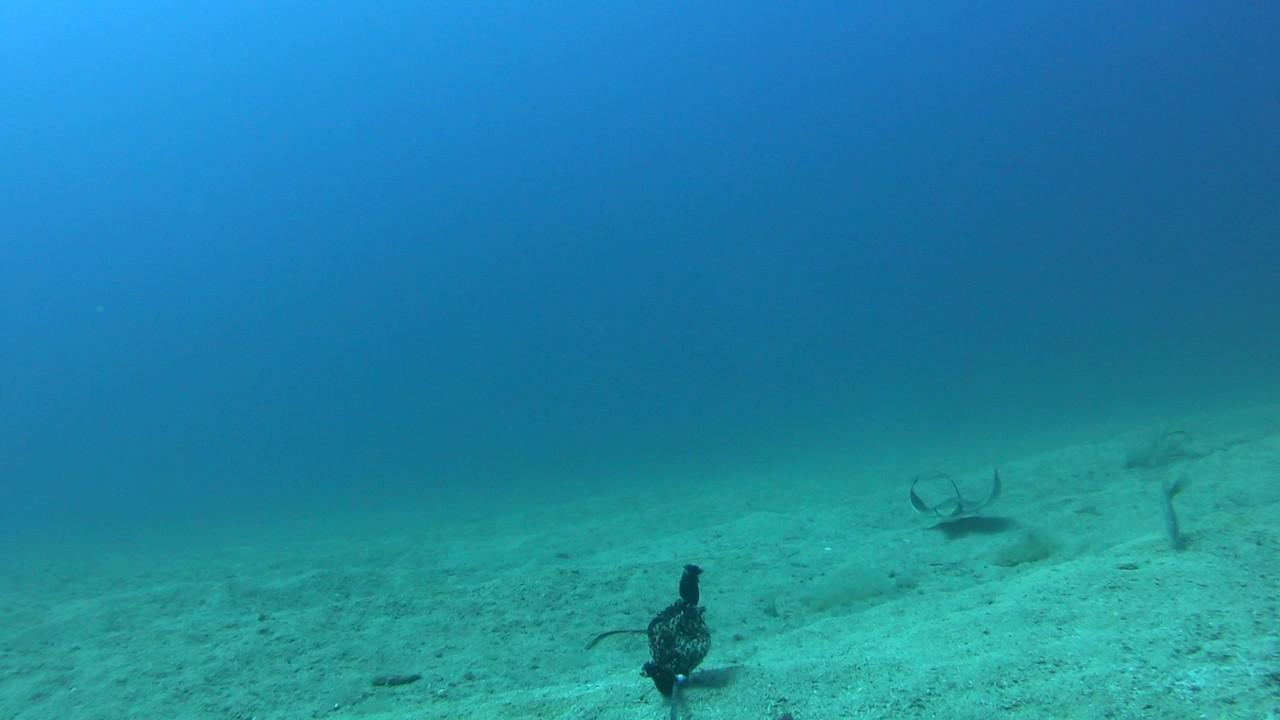myliobatis: (903, 458, 1005, 524)
